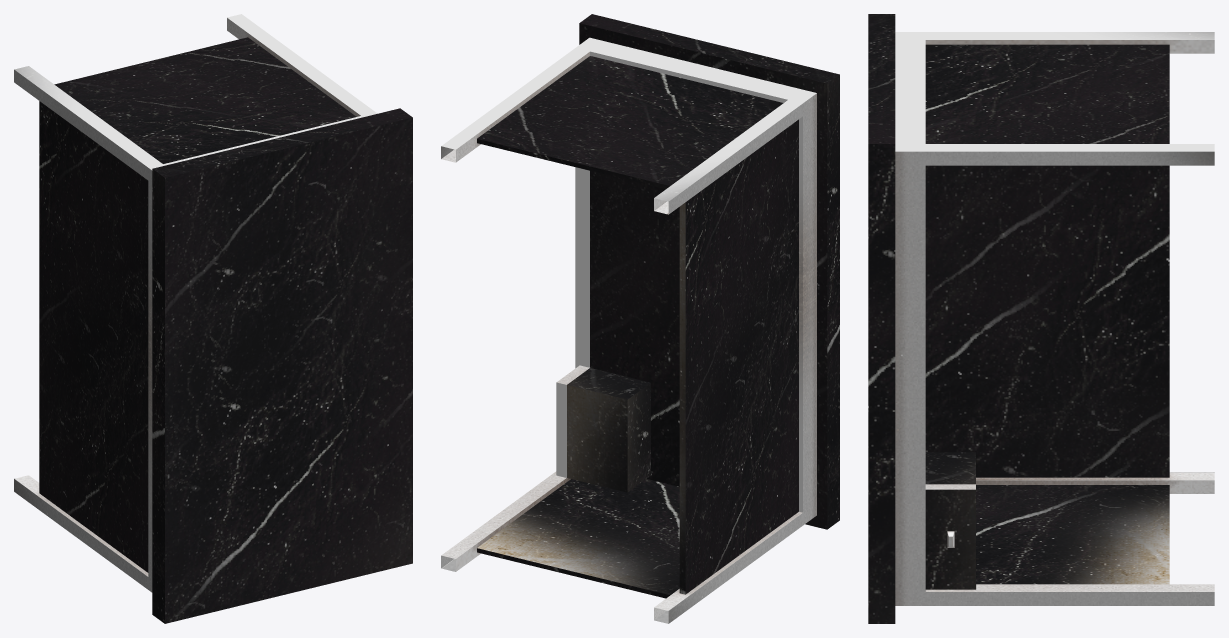
File: dark_marble.dae
3 renders of one model, left to right at view 1: azimuth 30°, elevation 25°; view 2: azimuth 150°, elevation 25°; view 3: azimuth 270°, elevation 25°, orthographic. The views are drawn at different scales.
Visible parts, largest first — view 1: Desk_Desk_Cube; view 2: Desk_Desk_Cube; view 3: Desk_Desk_Cube.
Boxes of the visible parts, x1,y1,x2,y2 form: Desk_Desk_Cube: (14,14,412,623); Desk_Desk_Cube: (441,14,839,623); Desk_Desk_Cube: (868,14,1214,623).
Size of the model in its own units: 0.4906 by 0.552 by 0.8437.
Materials: 1 (1 with a texture image).
